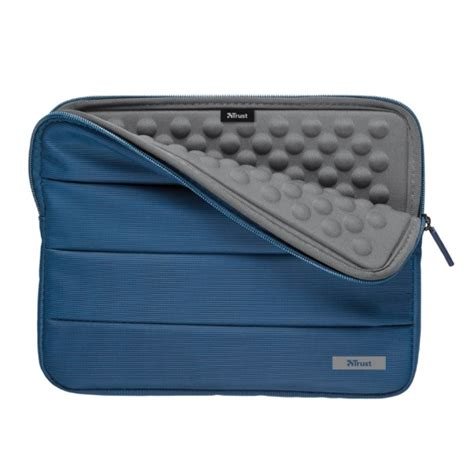nylon: (30, 96, 425, 395)
